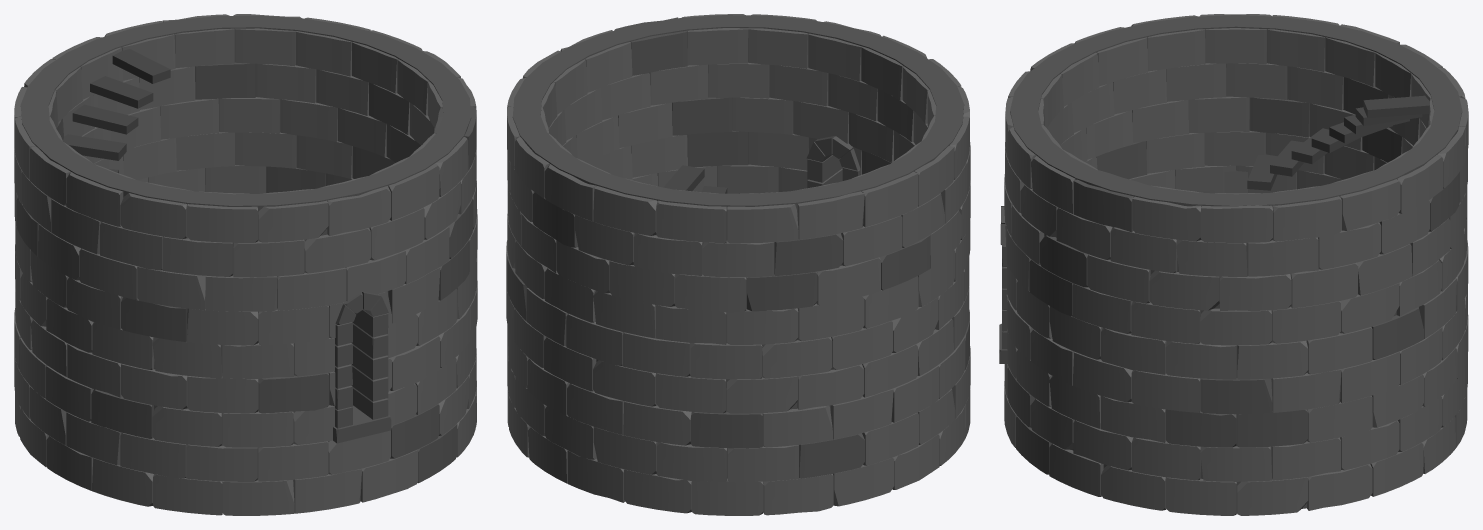
File: Tower_02.fbx
The picture shows the model from 3 angles, left to right: view 1: azimuth 30°, elevation 25°; view 2: azimuth 150°, elevation 25°; view 3: azimuth 270°, elevation 25°; orthographic projection.
Parts seen in each view (by area): view 1: Tower_02_LOD0; view 2: Tower_02_LOD0; view 3: Tower_02_LOD0.
Boxes of the visible parts, left/top/right/bottom form: Tower_02_LOD0: left=14, top=14, right=477, bottom=515; Tower_02_LOD0: left=506, top=14, right=970, bottom=515; Tower_02_LOD0: left=999, top=14, right=1468, bottom=515.
Size of what is drawn, in the model's own units: 4.11 by 3.02 by 4.15.
